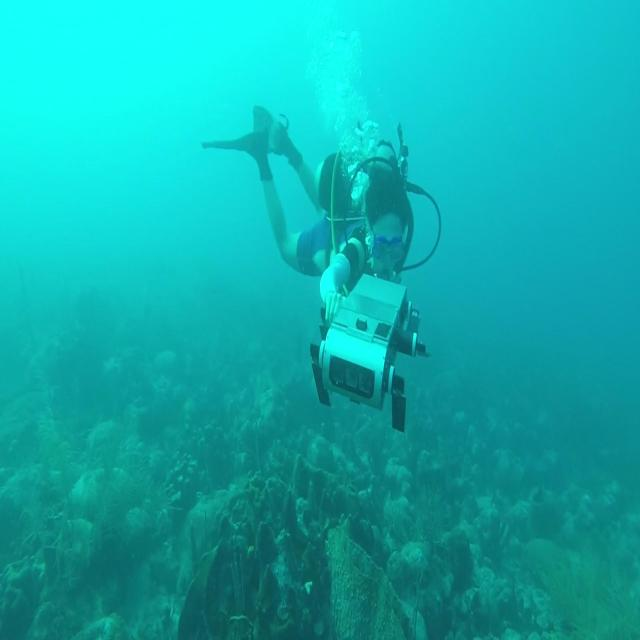human: (200, 103, 439, 317)
